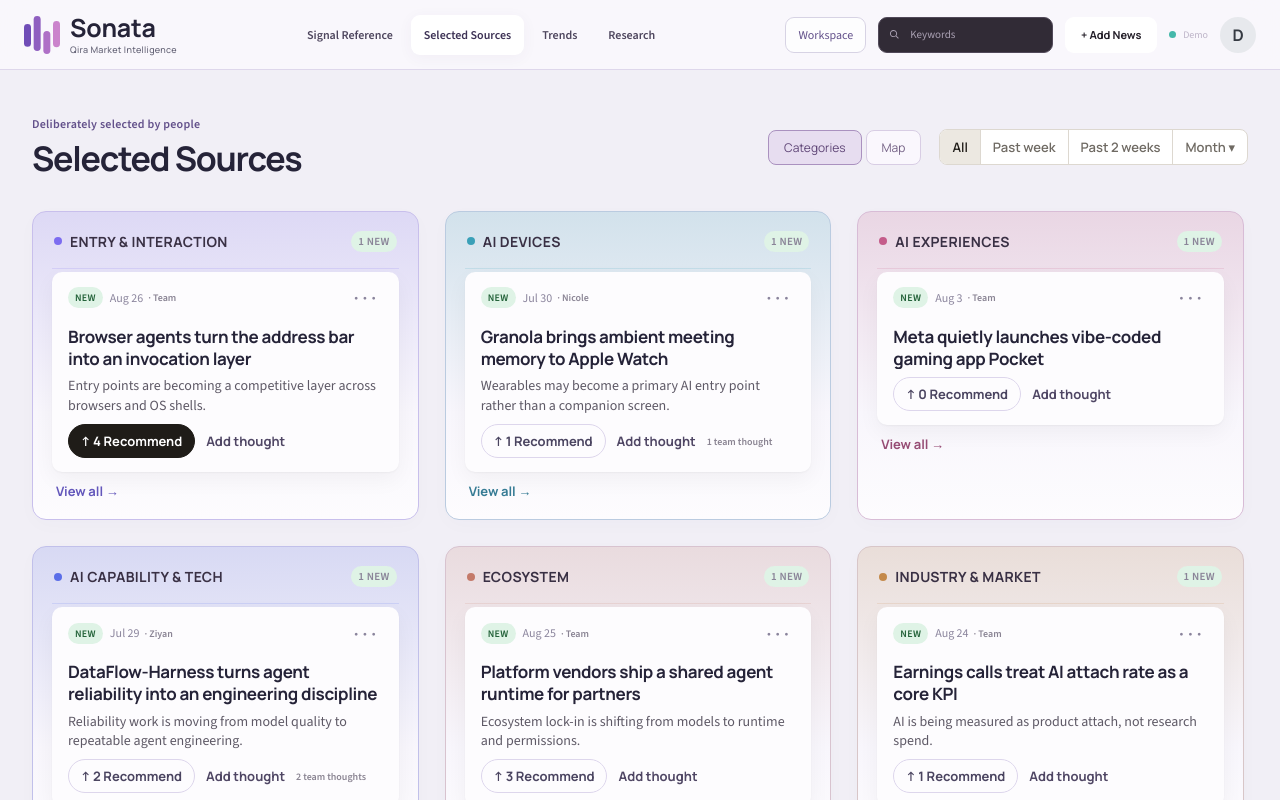
keeps Categories as the default and reuses the same session New cursor across map switches
Click the button "Map" at (893, 147), box [866,130,921,165]
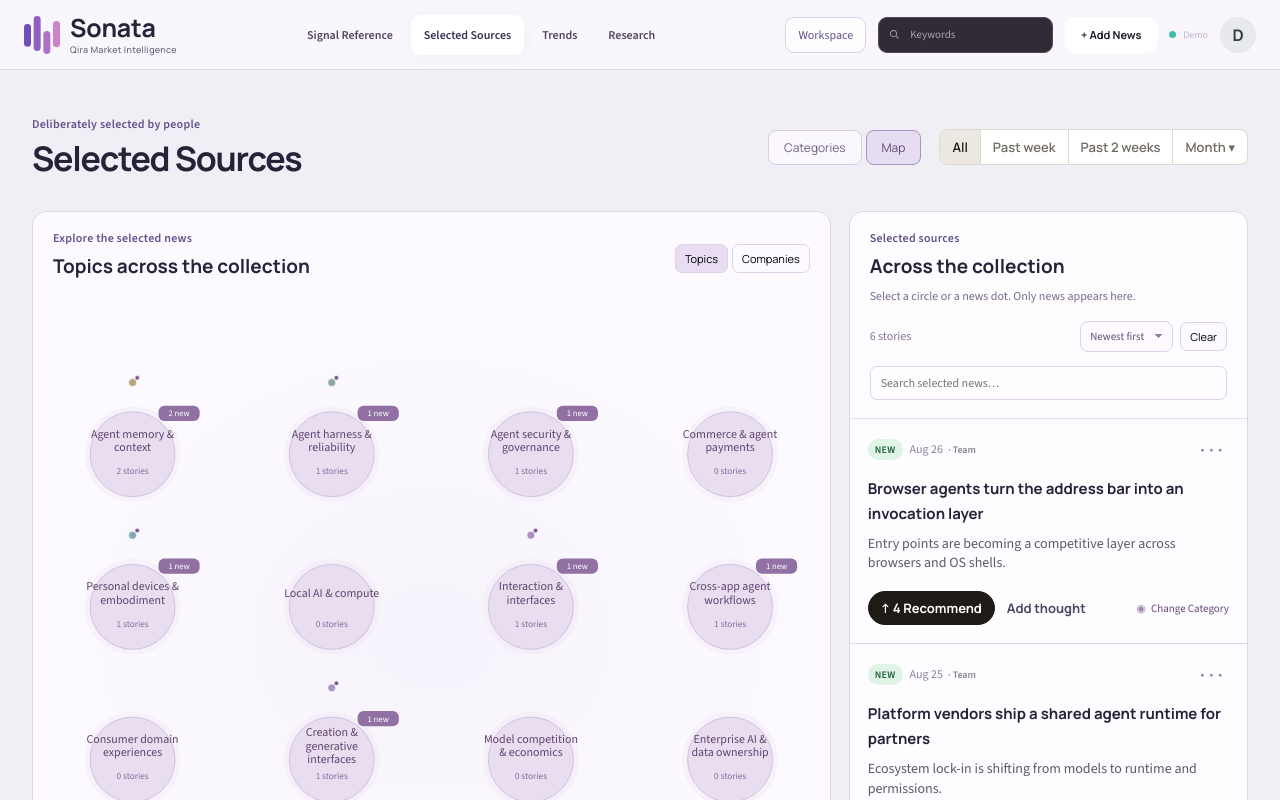
Result: the element named "Selected news map" is shown at [32,211,831,799]
Click the button "Categories" at (815, 147), box [768,130,862,165]
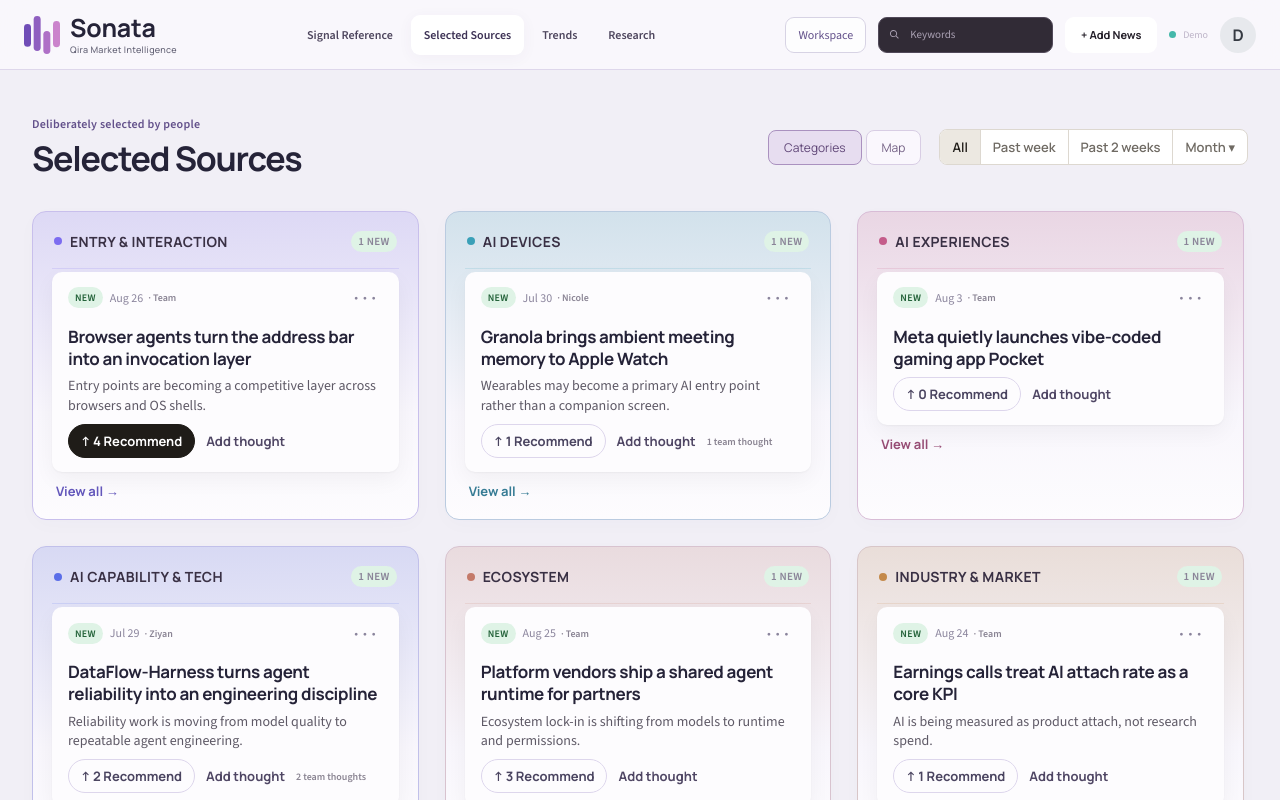
Result: the number of elements with class "category-panel" is 6 at [32,211,419,520]; [445,211,831,520]; [857,211,1244,520]; [32,546,419,799]; [445,546,831,799]; [857,546,1244,799]
